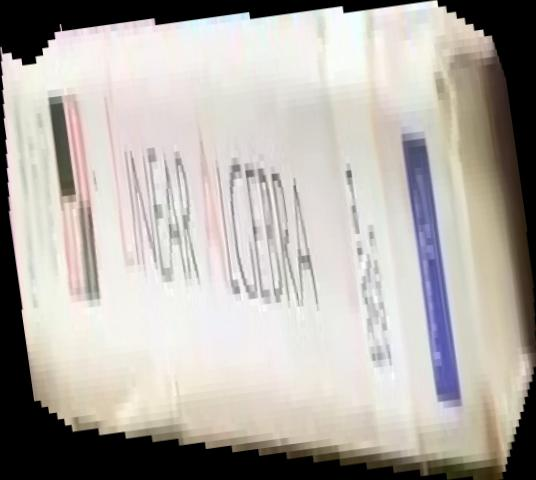flat: (1, 1, 536, 480)
